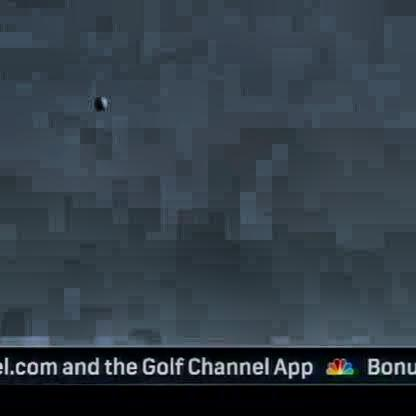golfball: (91, 92, 107, 108)
